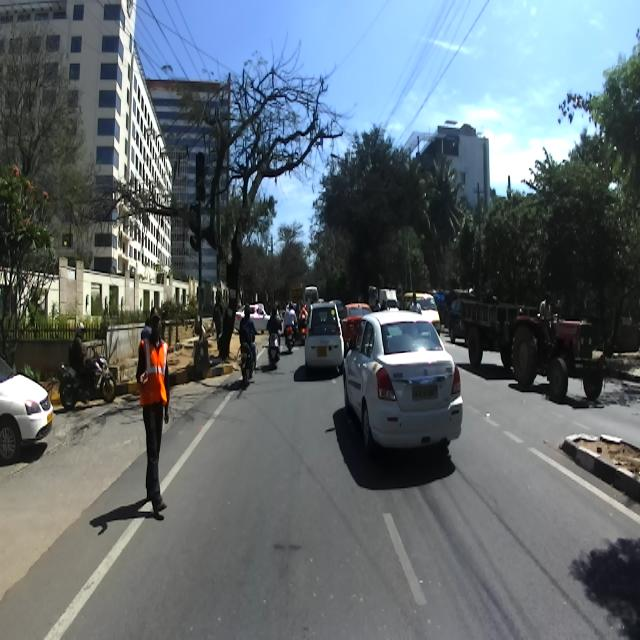car ahead at: (342, 312, 464, 467), (0, 354, 55, 460), (304, 298, 344, 380)
person ahead at: (136, 306, 172, 529)
